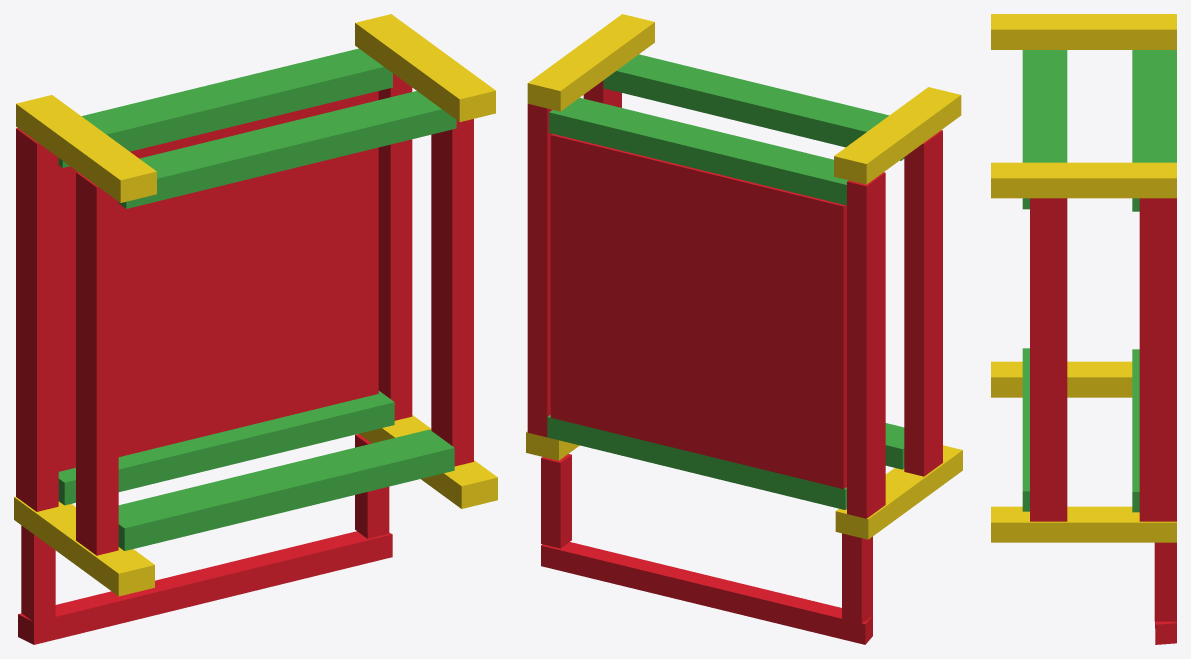
File: tinker.obj
3 views of the same model, side by side, from view 1: azimuth 30°, elevation 25°; view 2: azimuth 150°, elevation 25°; view 3: azimuth 270°, elevation 25° (orthographic). The views are drawn at different scales.
Visible parts, largest first — view 1: group_0_15277357, group_0_4634441, group_0_16768282; view 2: group_0_15277357, group_0_4634441, group_0_16768282; view 3: group_0_15277357, group_0_16768282, group_0_4634441.
Part boxes in pixels (left/top/right/bottom): group_0_15277357: left=16, top=73, right=473, bottom=644; group_0_4634441: left=58, top=48, right=456, bottom=550; group_0_16768282: left=14, top=14, right=497, bottom=596; group_0_15277357: left=527, top=81, right=942, bottom=644; group_0_4634441: left=547, top=54, right=904, bottom=509; group_0_16768282: left=526, top=14, right=962, bottom=539; group_0_15277357: left=1030, top=198, right=1176, bottom=644; group_0_16768282: left=991, top=14, right=1176, bottom=542; group_0_4634441: left=1022, top=50, right=1176, bottom=512.
Size of the model in its own units: 209 by 281 by 100.
